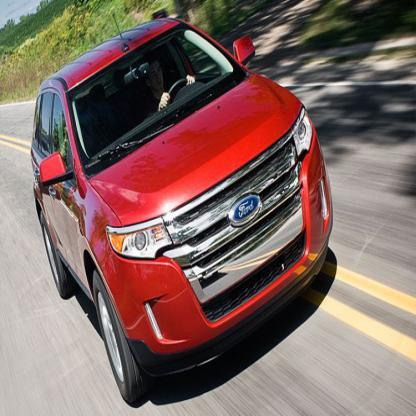Vehicle: (32, 18, 334, 404)
